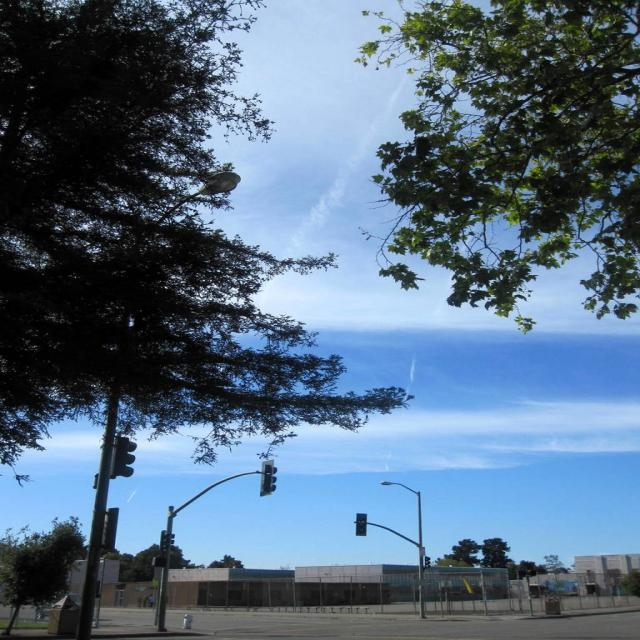off traffic light: (115, 436, 136, 479), (262, 459, 277, 495), (423, 556, 431, 568)
